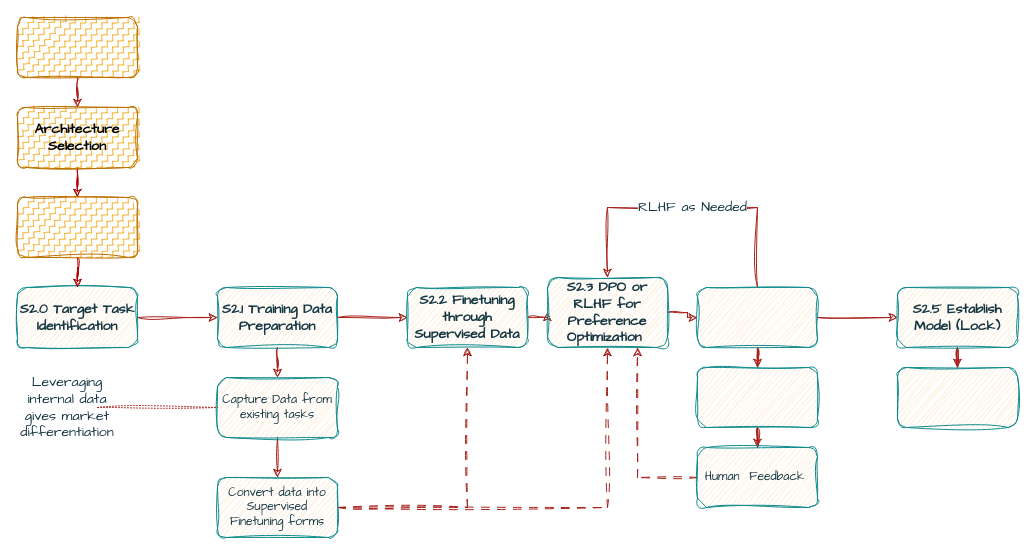
This 1035x555 diagram has some shape labels left out. Here are the shapes that lost their labels. From the top down, the centre of each, then its label:
point (77, 47): Needs Analysis
point (77, 227): Model Selection (Library Templates)
point (757, 317): S2.4 Deploy SLM for Task
point (757, 397): Deployment done with Human-in-the-loop
point (957, 397): Add model to Library
